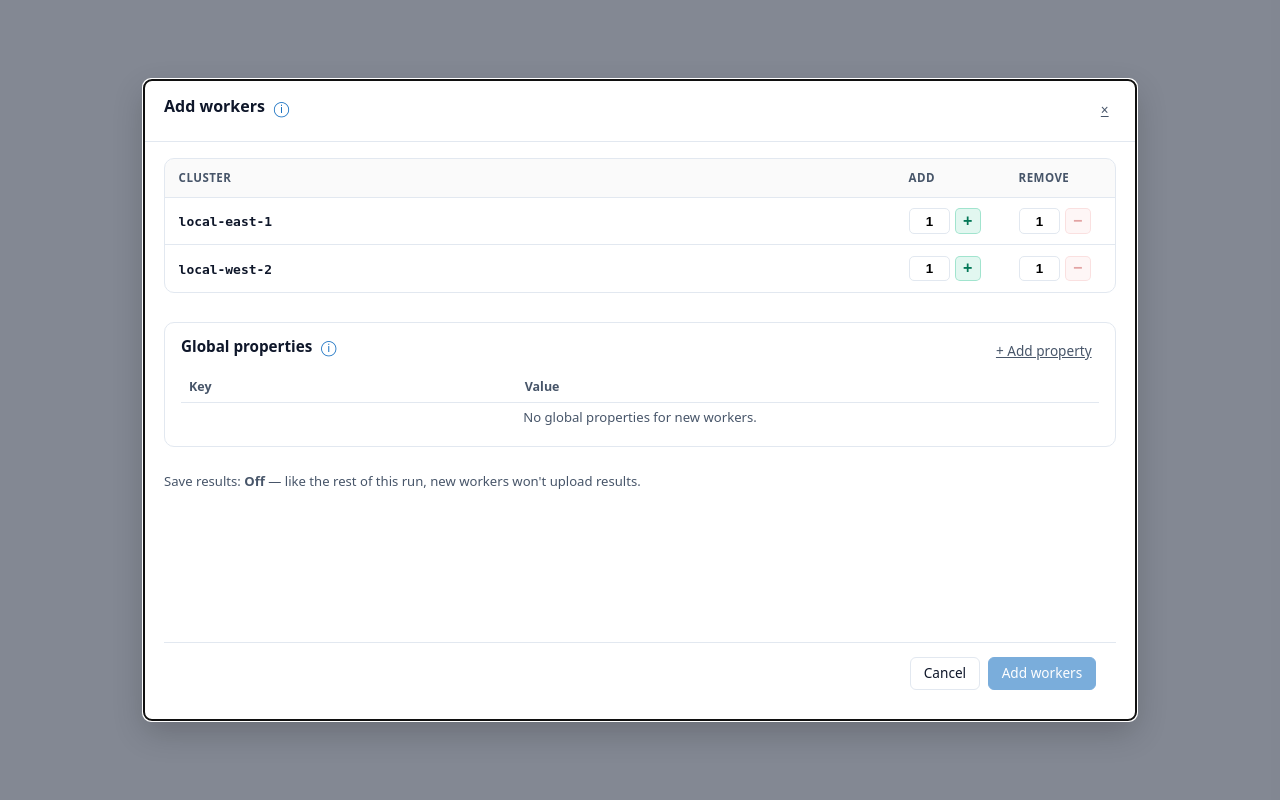
Test: ScaleUpRunModal — capacity-aware ceiling (problem #1) › clamps the ceiling at the group's maxAvailable − this run's active workers (app → group hop)
This screenshot has width=1280, height=800.
Replace the text in the number field named "number of workers to add to local-east-1" with "5" at (929, 221), box [909,208,950,234]
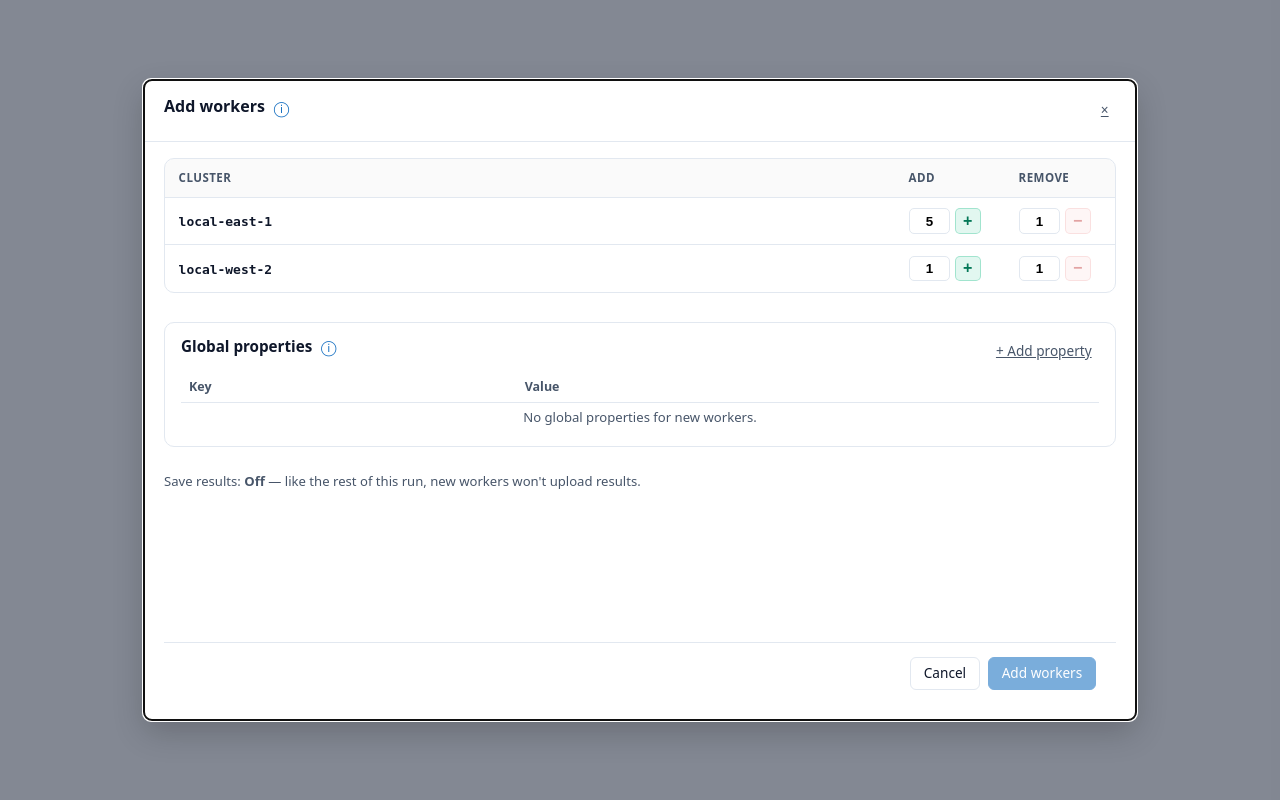
Click the button named "add workers to local-east-1" at (968, 221), box [955,208,981,234]
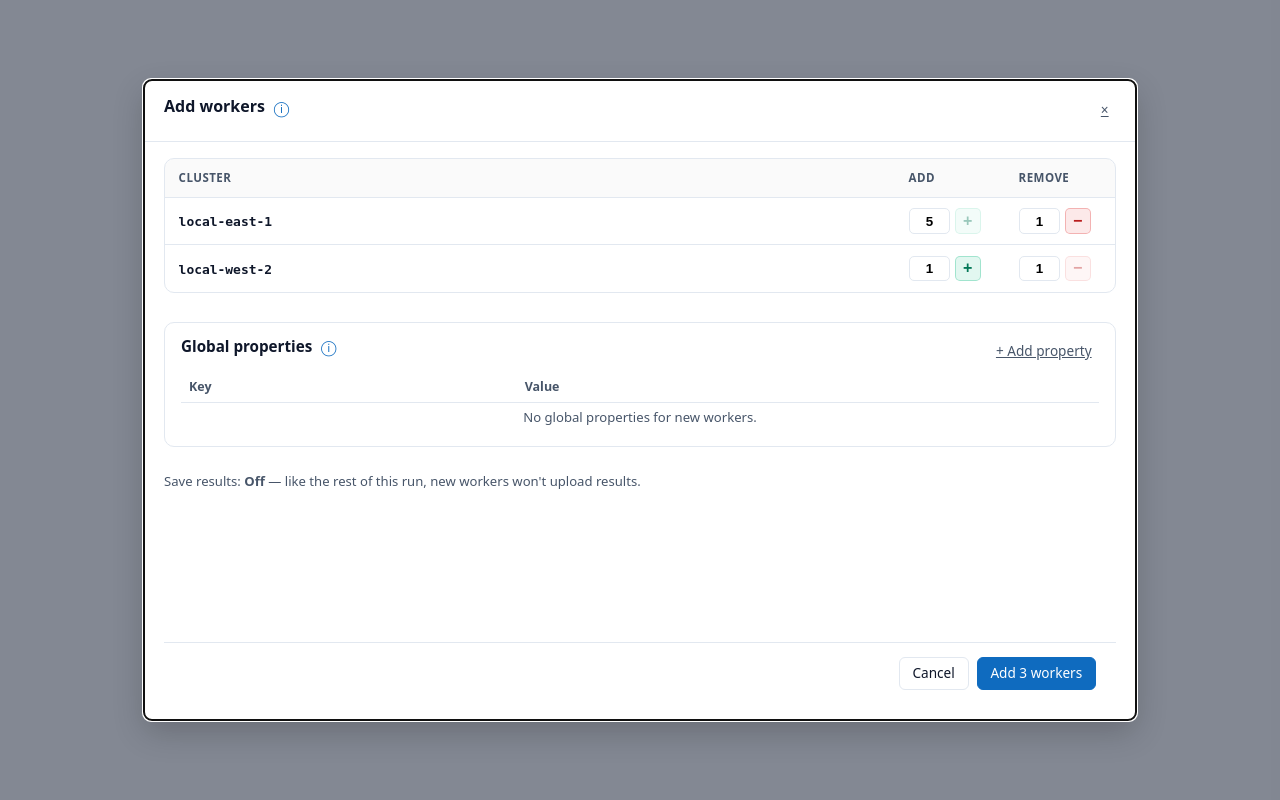
Result: the button "Add 3 workers" is shown at [977,657,1096,690]
